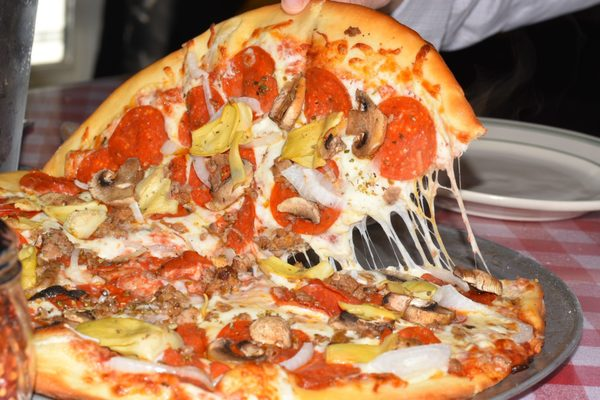pizza: (0, 1, 40, 172)
